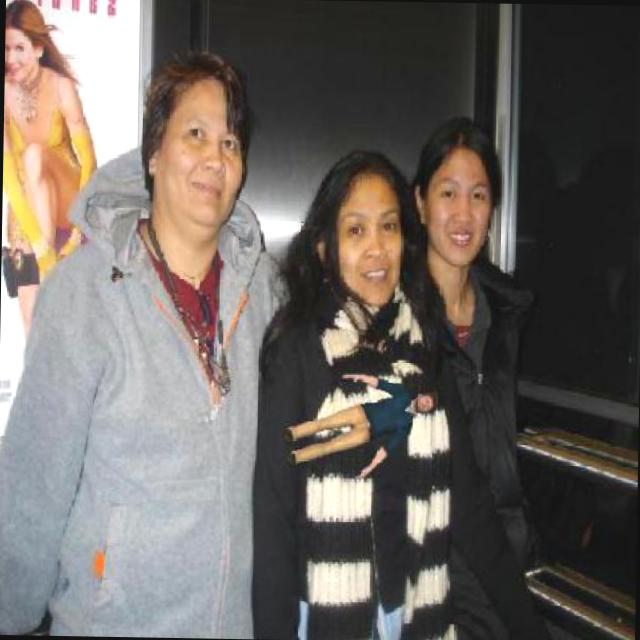Person: (282, 366, 438, 484)
